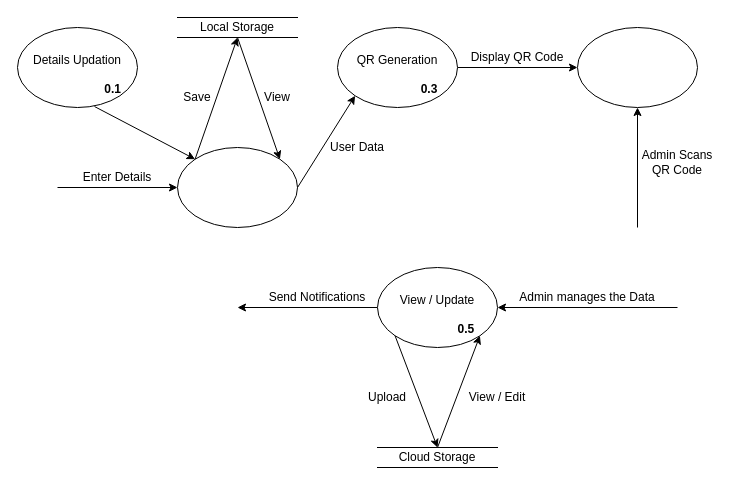
This 735x485 diagram has some shape labels left out. The shapes that lost their labels are listed below. From the top down, each one's box as (x1, y1, x2, y2) in pixels, then its label:
(576, 26, 698, 108): QR Scanning Process 0.4
(176, 146, 298, 228): User Process 0.2
